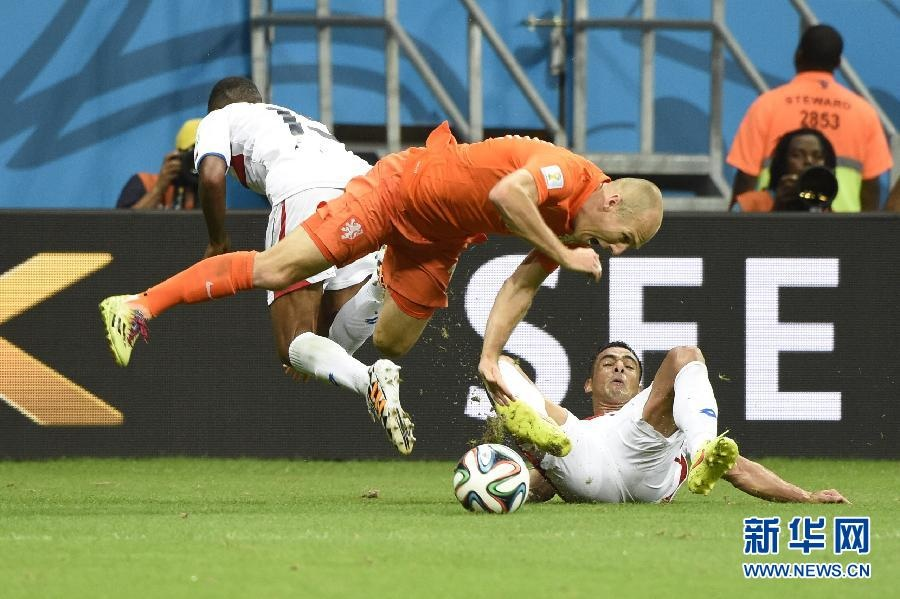falling: (166, 81, 639, 398)
